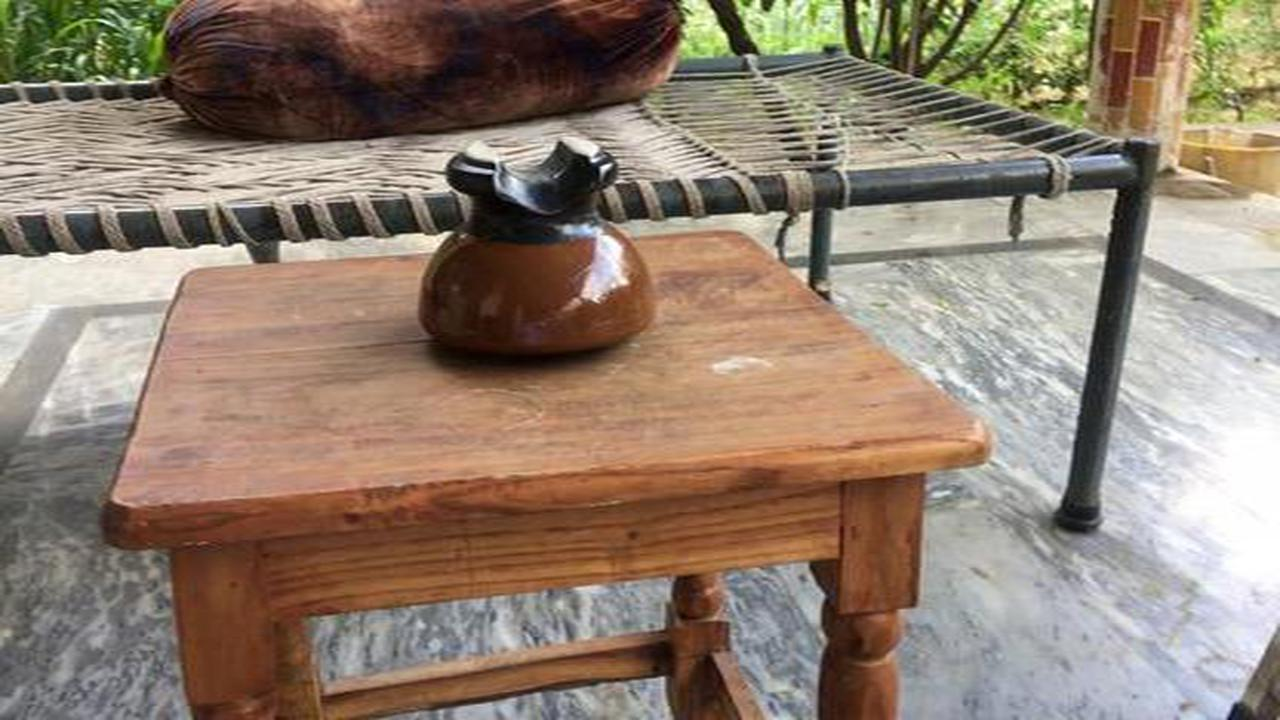insulator_pin: (407, 130, 665, 376)
